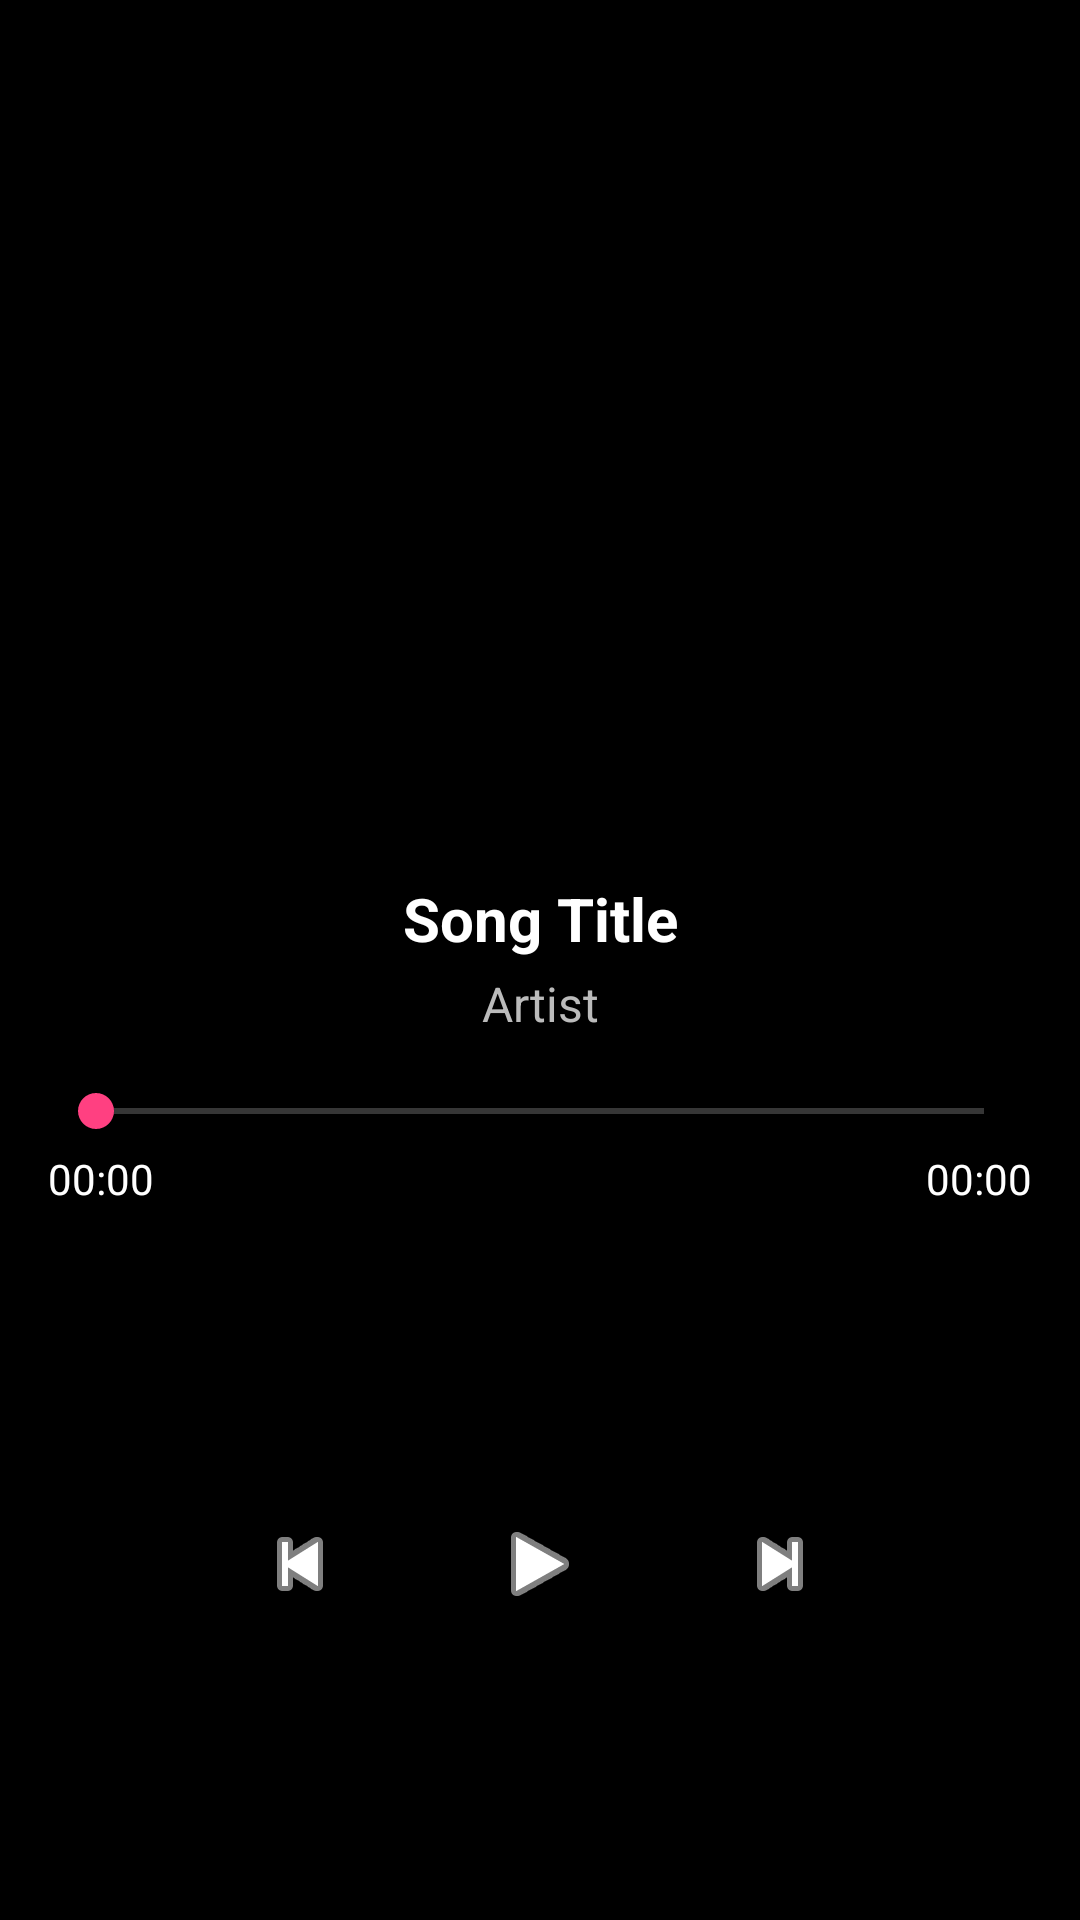

Locate icon controls on the screen. Image size 1080×1920, boxes as (x1, y1, x2, y2).
next: (757, 1537, 803, 1591)
play: (511, 1532, 569, 1596)
previous: (277, 1537, 323, 1591)
